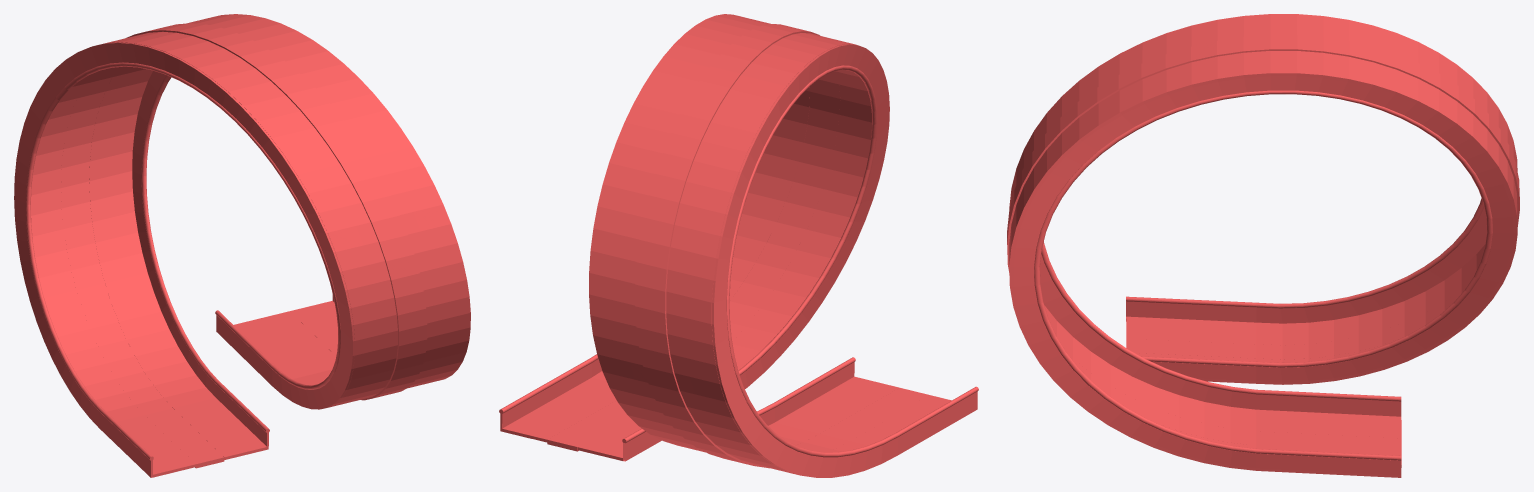
The model's file is trackpiece-loop-placed.glb.
The picture shows the model from 3 angles, left to right: view 1: azimuth 30°, elevation 25°; view 2: azimuth 150°, elevation 25°; view 3: azimuth 270°, elevation 25°; orthographic projection. The views are drawn at different scales.
Parts seen in each view (by area): view 1: Track piece/short; view 2: Track piece/short; view 3: Track piece/short.
Boxes of the visible parts, left/top/right/bottom form: Track piece/short: left=14, top=14, right=470, bottom=477; Track piece/short: left=499, top=14, right=978, bottom=477; Track piece/short: left=1007, top=14, right=1519, bottom=477.
Bounding box in the file's own units: 22.14 × 22.95 × 29.86.
